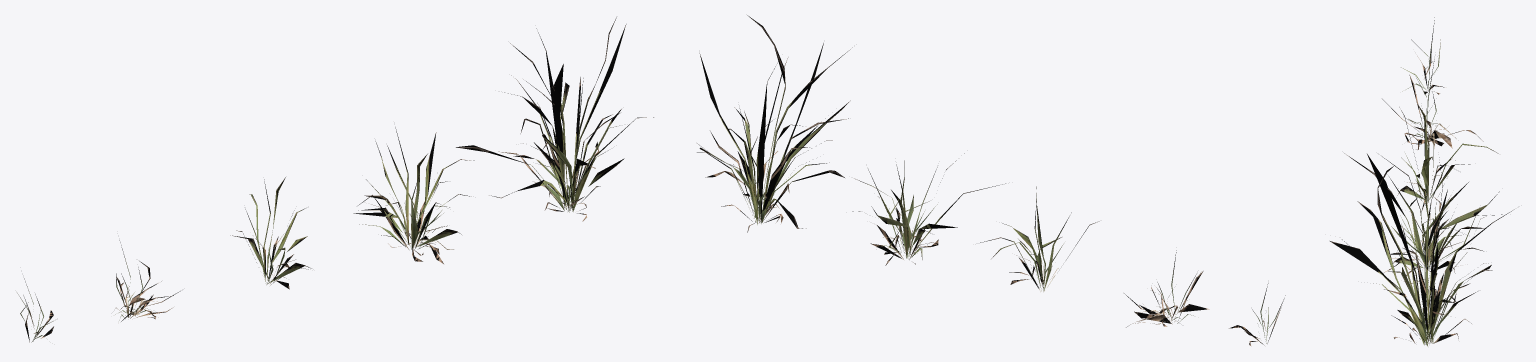
File: grass_medium_02.glb
The picture shows the model from 3 angles, left to right: view 1: azimuth 30°, elevation 25°; view 2: azimuth 150°, elevation 25°; view 3: azimuth 270°, elevation 25°; orthographic projection. The views are drawn at different scales.
Parts seen in each view (by area): view 1: grass_medium_02_a; view 2: grass_medium_02_a; view 3: grass_medium_02_a.
Part boxes in pixels (x1,y1,x2,y2): grass_medium_02_a: (17, 17, 653, 342); grass_medium_02_a: (697, 15, 1285, 345); grass_medium_02_a: (1330, 17, 1514, 346).
Bounding box in the file's own units: 1.26 × 0.4026 × 0.3851.
Materials: 1 (1 with a texture image).
